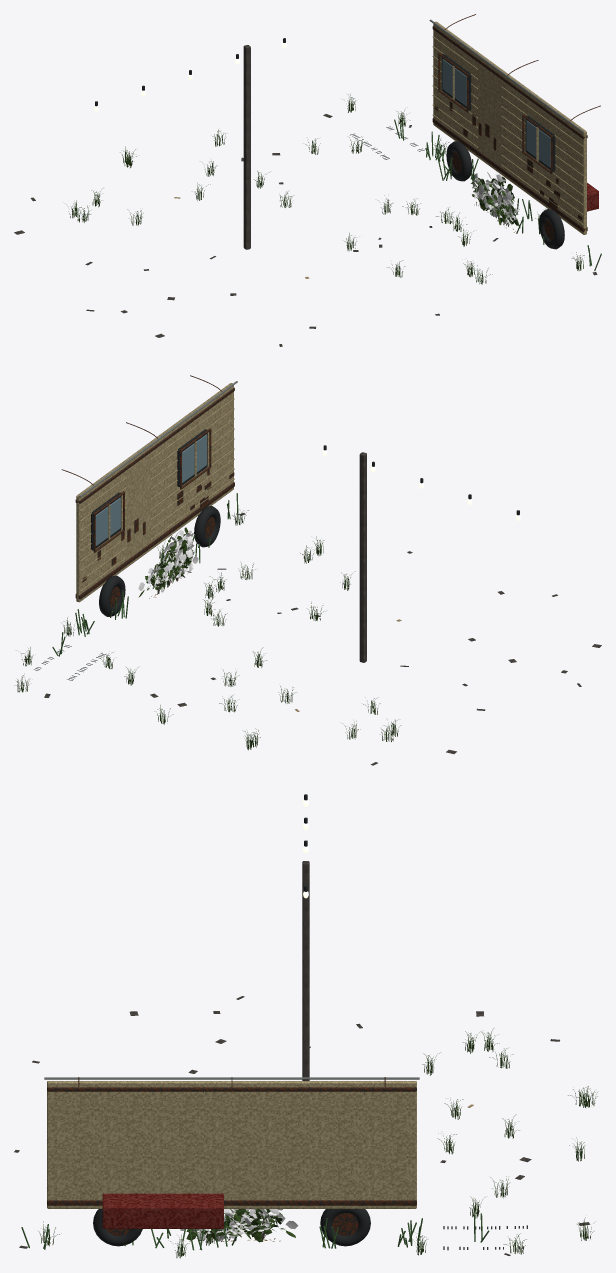
The model's file is SM_Env_Tile_p0_m1.fbx.
3 views of the same model, one above another, from view 1: azimuth 30°, elevation 25°; view 2: azimuth 150°, elevation 25°; view 3: azimuth 270°, elevation 25° (orthographic). The views are drawn at different scales.
Parts seen in each view (by area): view 1: SM_Env_Tile_p0_m1; view 2: SM_Env_Tile_p0_m1; view 3: SM_Env_Tile_p0_m1.
Part boxes in pixels (<box>): SM_Env_Tile_p0_m1: <box>14,14,601,346</box>; SM_Env_Tile_p0_m1: <box>14,375,601,765</box>; SM_Env_Tile_p0_m1: <box>14,794,597,1258</box>.
Size of what is drawn, in the model's own units: 1223 by 1113 by 522.
17 materials, 7 textured.
